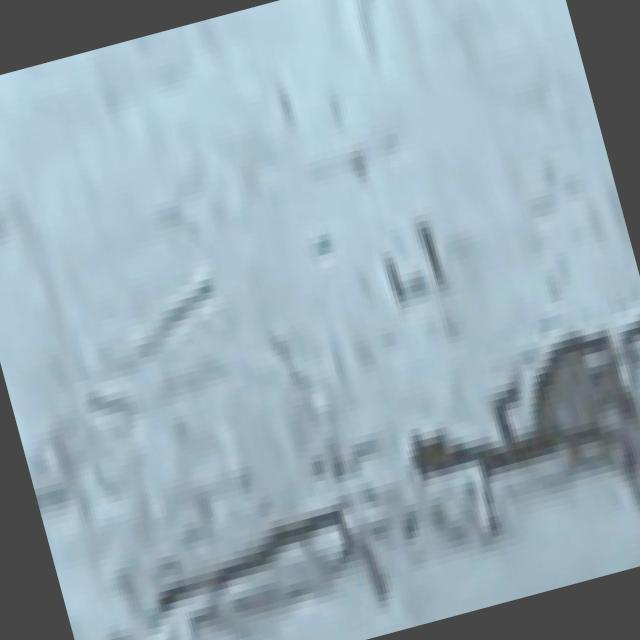crack: (402, 288, 640, 533), (133, 434, 380, 624)
